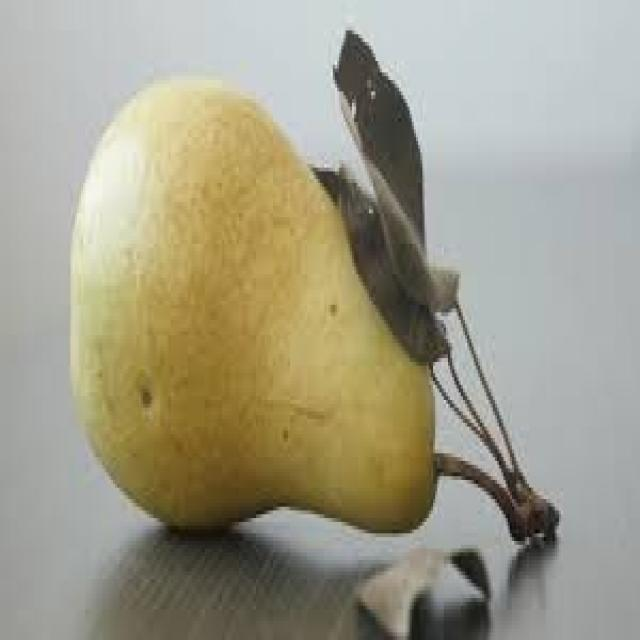organic waste: (68, 72, 442, 538), (332, 23, 458, 316), (303, 160, 448, 366)
